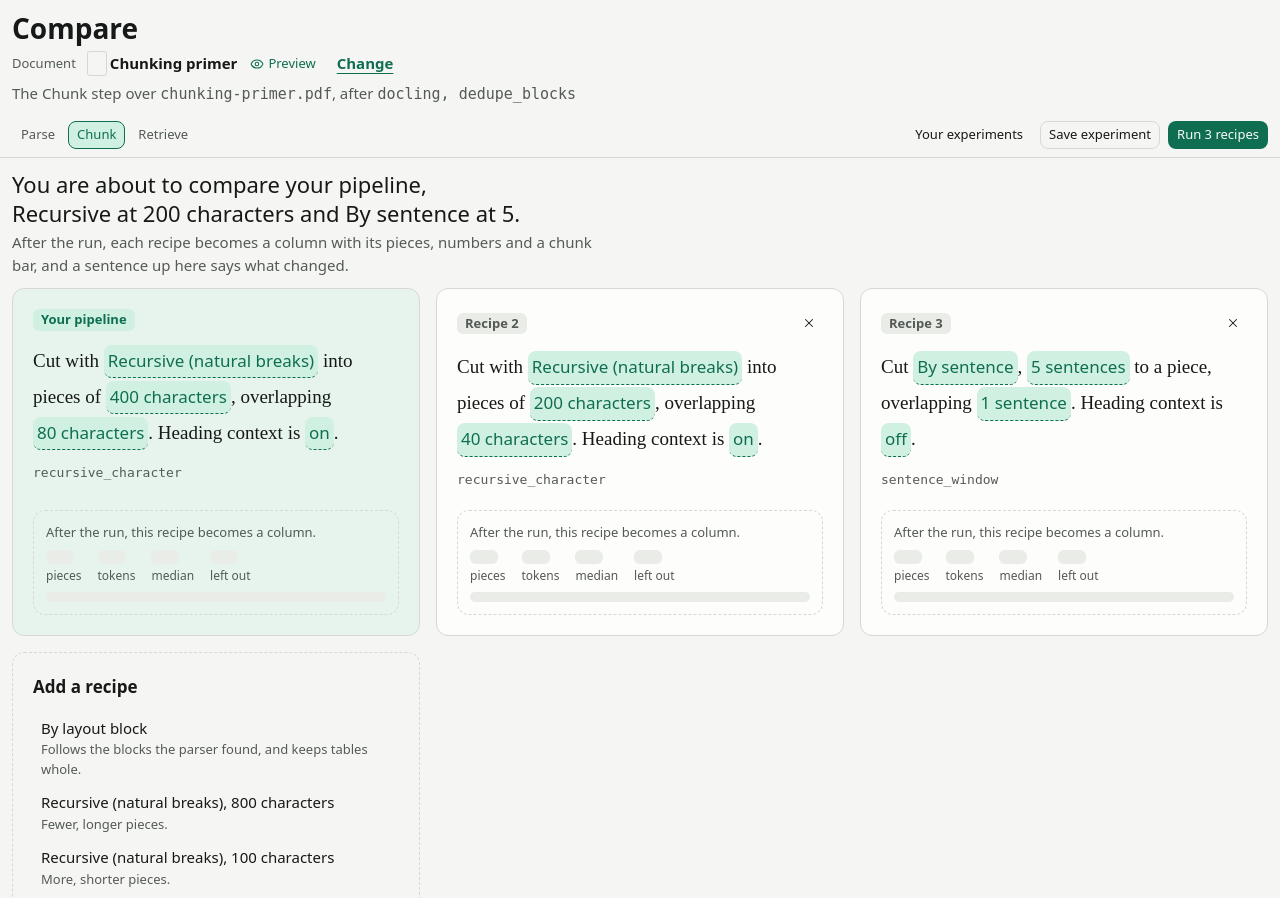
Test: the Compare stage picker › moves the comparison to Parse: the parsers, the sentence and the URL follow
The image size is (1280, 898).
Click the button "Parse" at [38, 135], box [12,121,64,149]
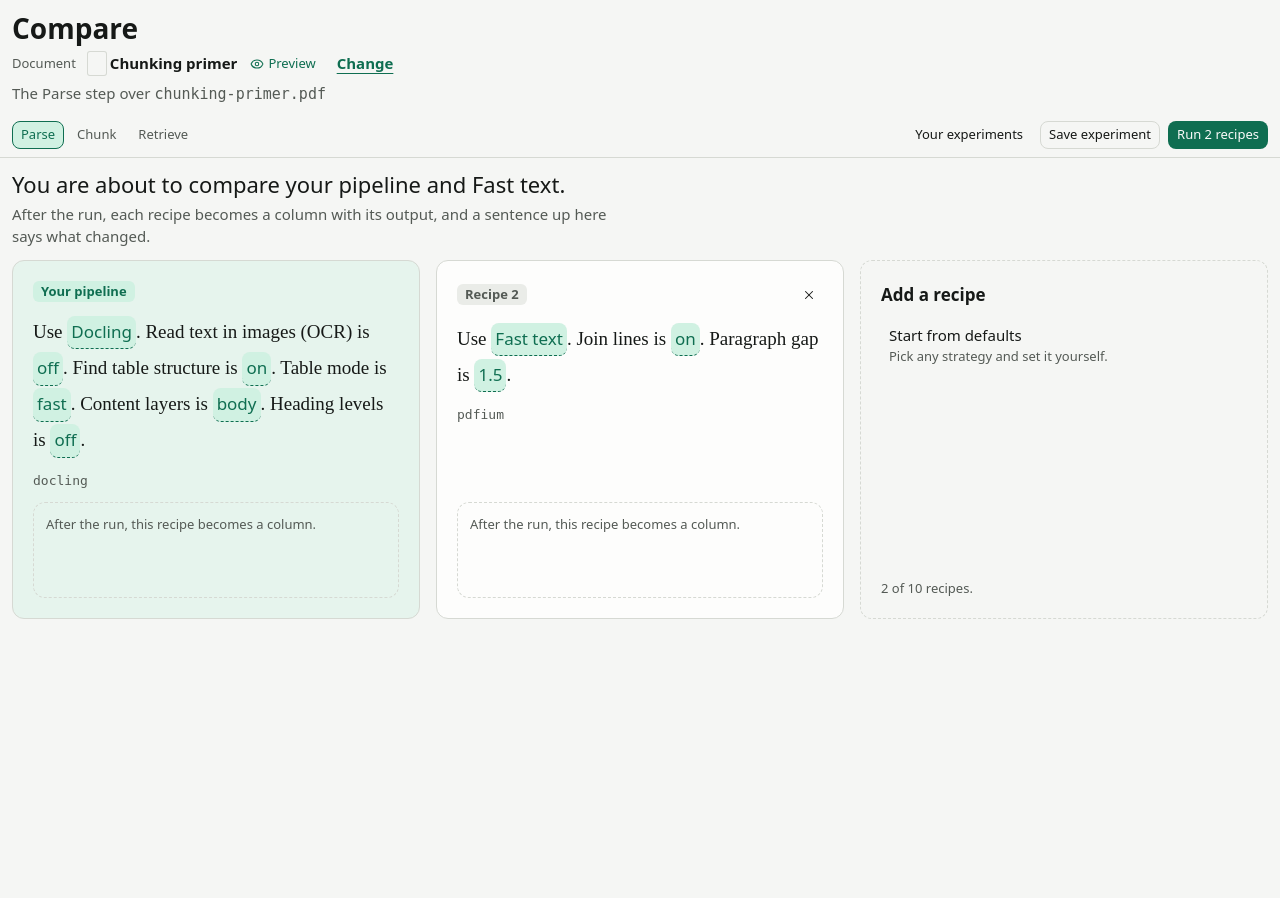
Check: the text "The Parse step over chunking-primer.pdf" is shown, box [12,83,326,103]
